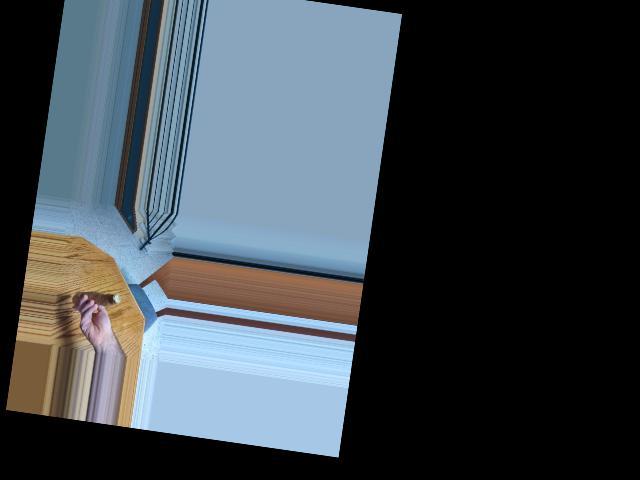sweet_potato: (72, 286, 122, 314)
